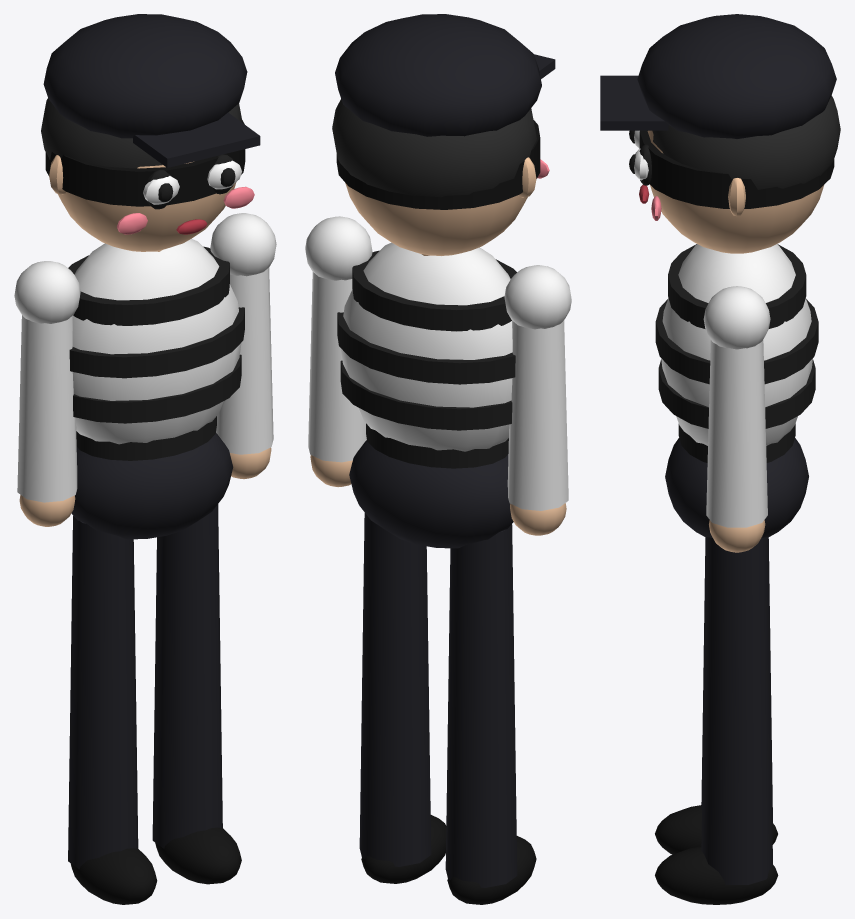
Rendered from heist_robber.glb.
The picture shows the model from 3 angles, left to right: view 1: azimuth 30°, elevation 25°; view 2: azimuth 150°, elevation 25°; view 3: azimuth 270°, elevation 25°; orthographic projection.
Parts seen in each view (by area): view 1: Body, Leg_R, Leg_L, Robber_extras, Arm_R, Arm_L; view 2: Body, Leg_R, Leg_L, Robber_extras, Arm_R, Arm_L; view 3: Body, Leg_L, Robber_extras, Arm_L, Leg_R.
Part boxes in pixels (bbox=[...]): Body: bbox=[41, 14, 260, 539]; Leg_R: bbox=[68, 515, 157, 904]; Leg_L: bbox=[152, 504, 241, 884]; Robber_extras: bbox=[45, 120, 245, 460]; Arm_R: bbox=[14, 261, 80, 526]; Arm_L: bbox=[210, 213, 276, 479]; Body: bbox=[332, 14, 555, 548]; Leg_R: bbox=[445, 524, 536, 904]; Leg_L: bbox=[359, 513, 446, 883]; Robber_extras: bbox=[336, 117, 540, 468]; Arm_R: bbox=[504, 265, 571, 535]; Arm_L: bbox=[305, 216, 372, 487]; Body: bbox=[600, 14, 840, 537]; Leg_L: bbox=[655, 537, 778, 904]; Robber_extras: bbox=[629, 130, 834, 462]; Arm_L: bbox=[703, 286, 770, 552]; Leg_R: bbox=[655, 537, 777, 854].
Bounding box in the file's own units: 0.57 × 1.82 × 0.4674.
